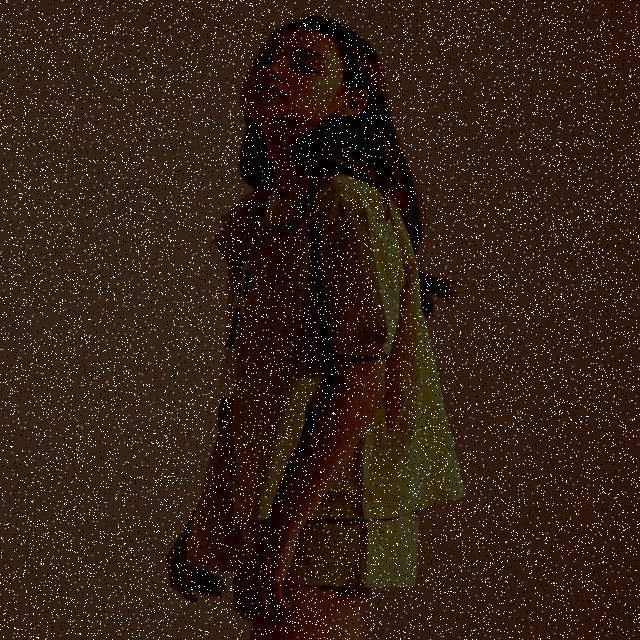dress: (203, 168, 467, 514)
